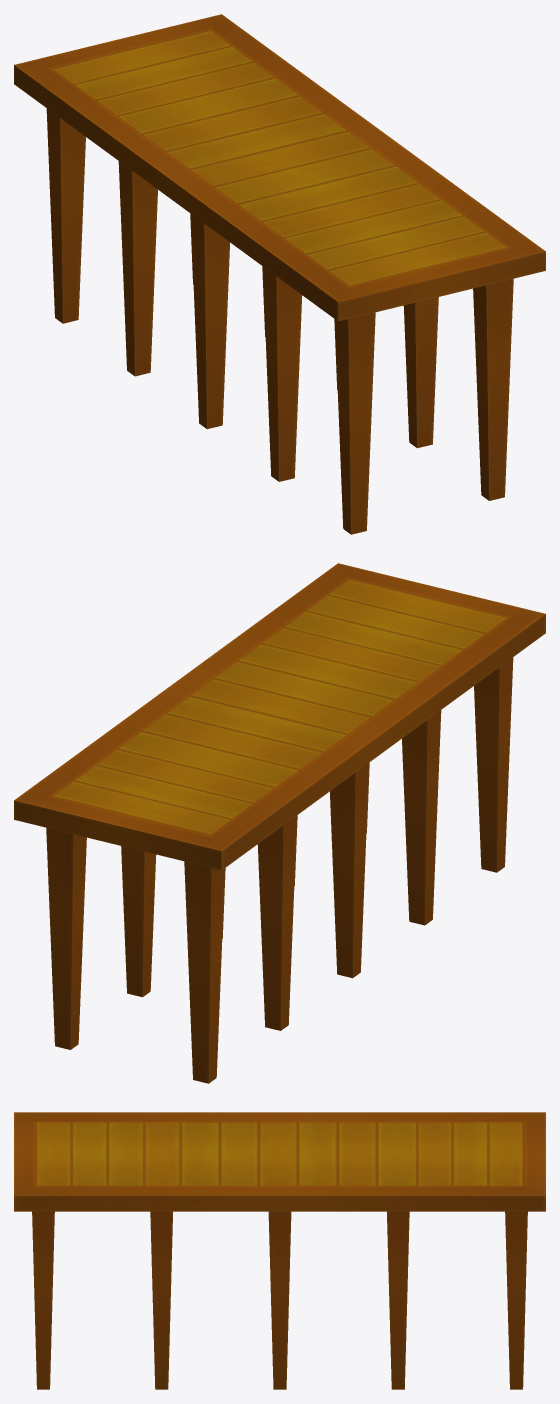
The model's file is STB0110001.FBX.
3 views of the same model, one above another, from view 1: azimuth 30°, elevation 25°; view 2: azimuth 150°, elevation 25°; view 3: azimuth 270°, elevation 25° (orthographic). The views are drawn at different scales.
Visible parts, largest first — view 1: smSTB0110001; view 2: smSTB0110001; view 3: smSTB0110001.
Boxes of the visible parts, x1,y1,x2,y2 form: smSTB0110001: [14, 14, 545, 534]; smSTB0110001: [14, 563, 545, 1083]; smSTB0110001: [14, 1112, 545, 1389].
Size of the model in its own units: 2.06 by 2.37 by 5.57.
1 material, 1 textured.
